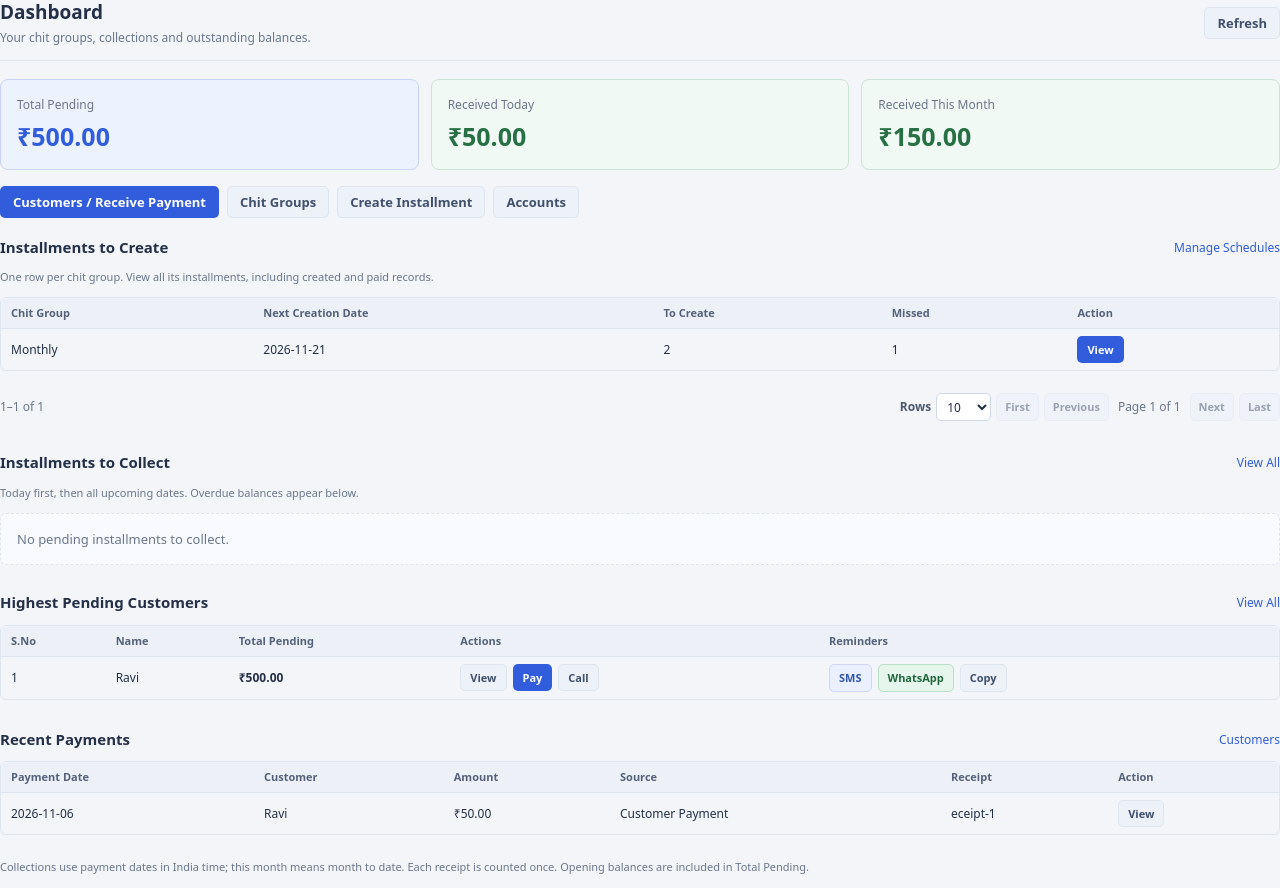
Test: Home can permanently delete an unpaid created installment after confirmation
Click the button with aria-label "View installments for Monthly" at point(1101, 350), box [1078, 336, 1124, 363]
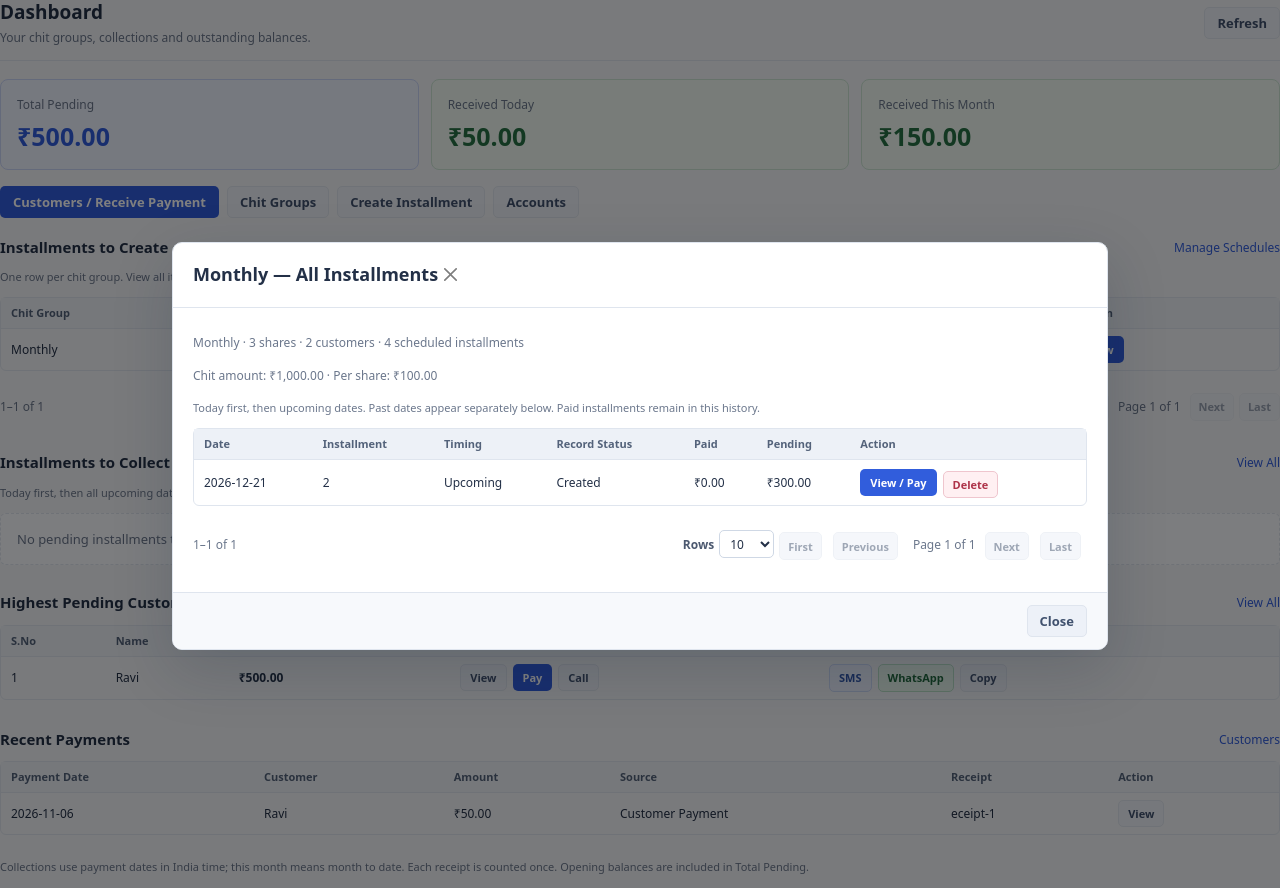
Click the button with aria-label "Delete installment 2 dated 2026-12-21" at point(970, 485), box [943, 471, 998, 498]
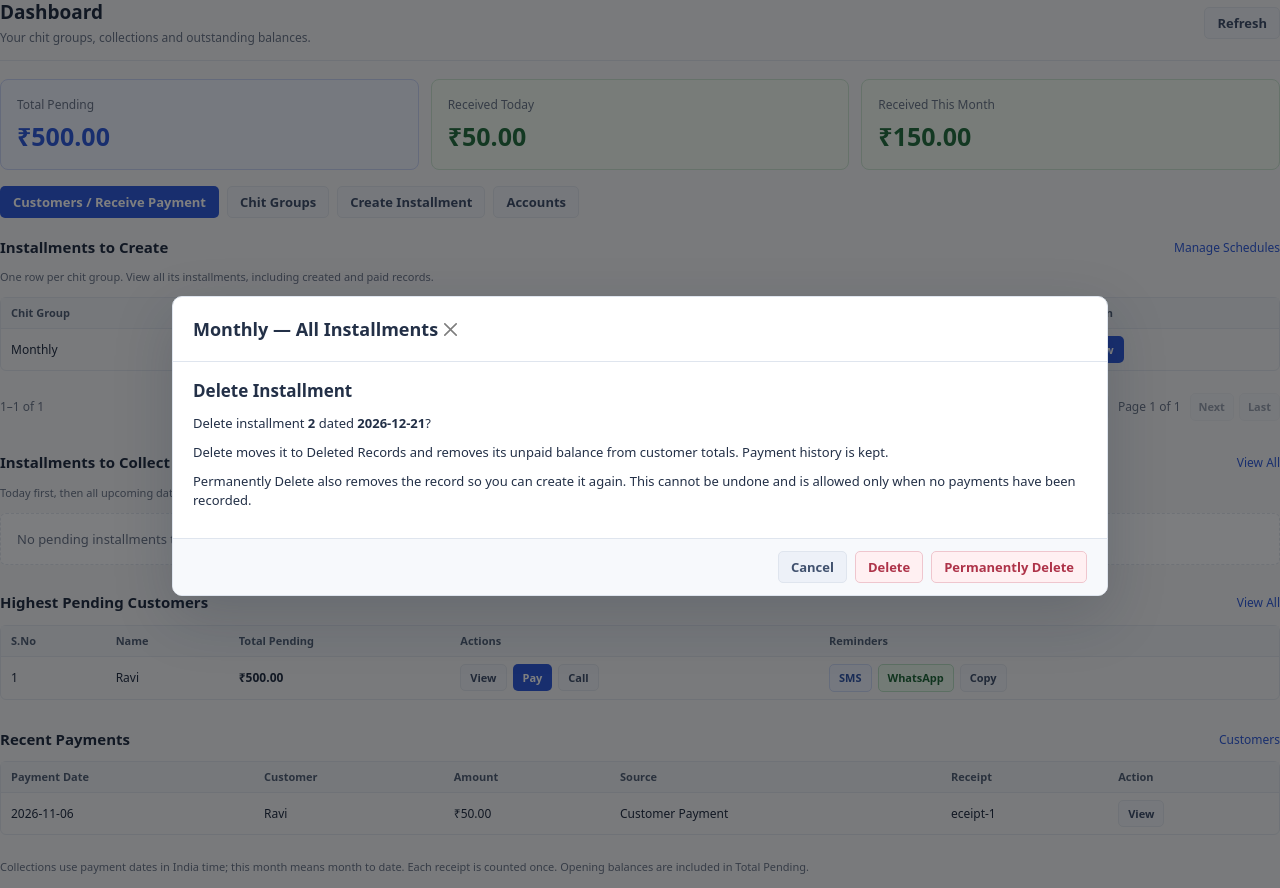
Click the button "Permanently Delete" at point(1009, 567), box [931, 551, 1087, 583]
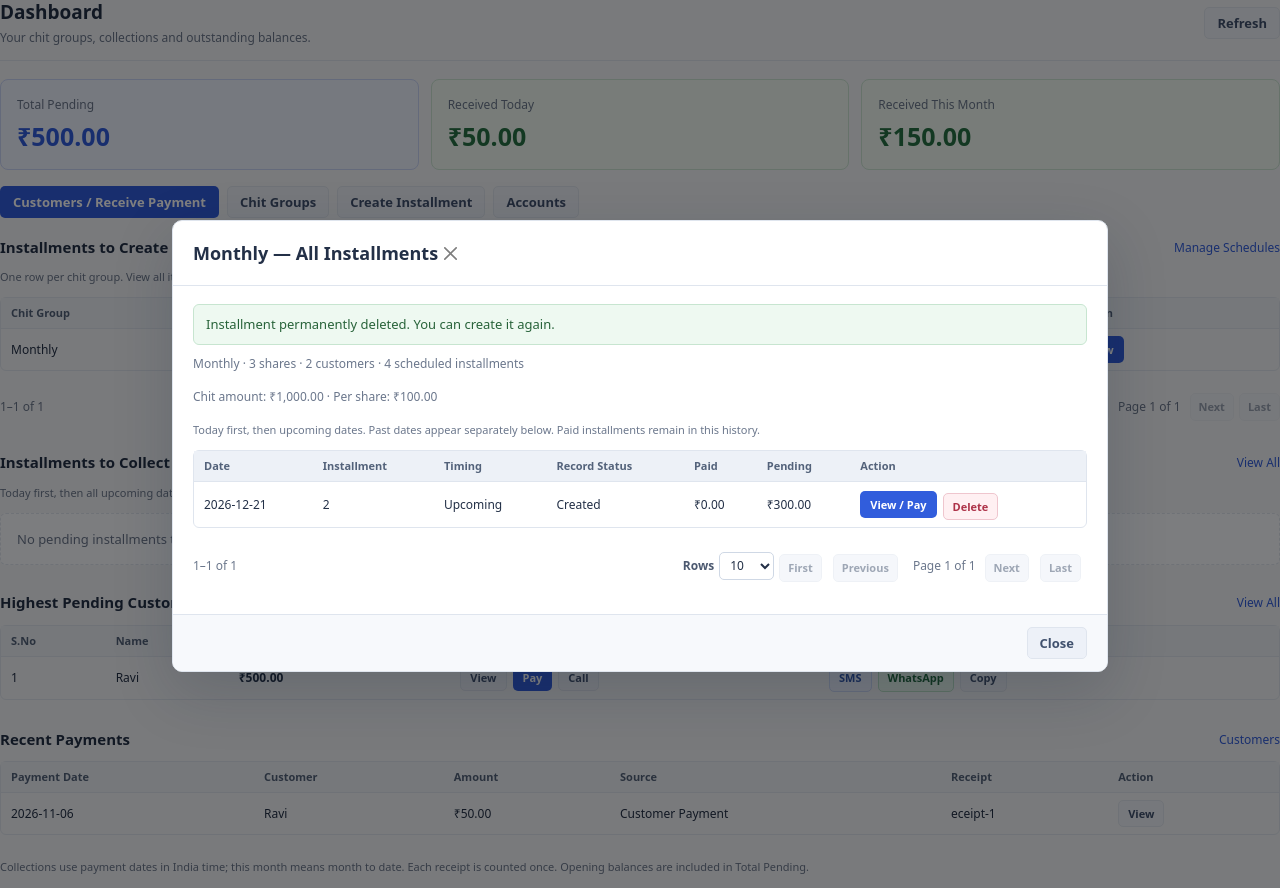
Result: the message shows "permanently deleted" at [206, 315, 555, 333]
